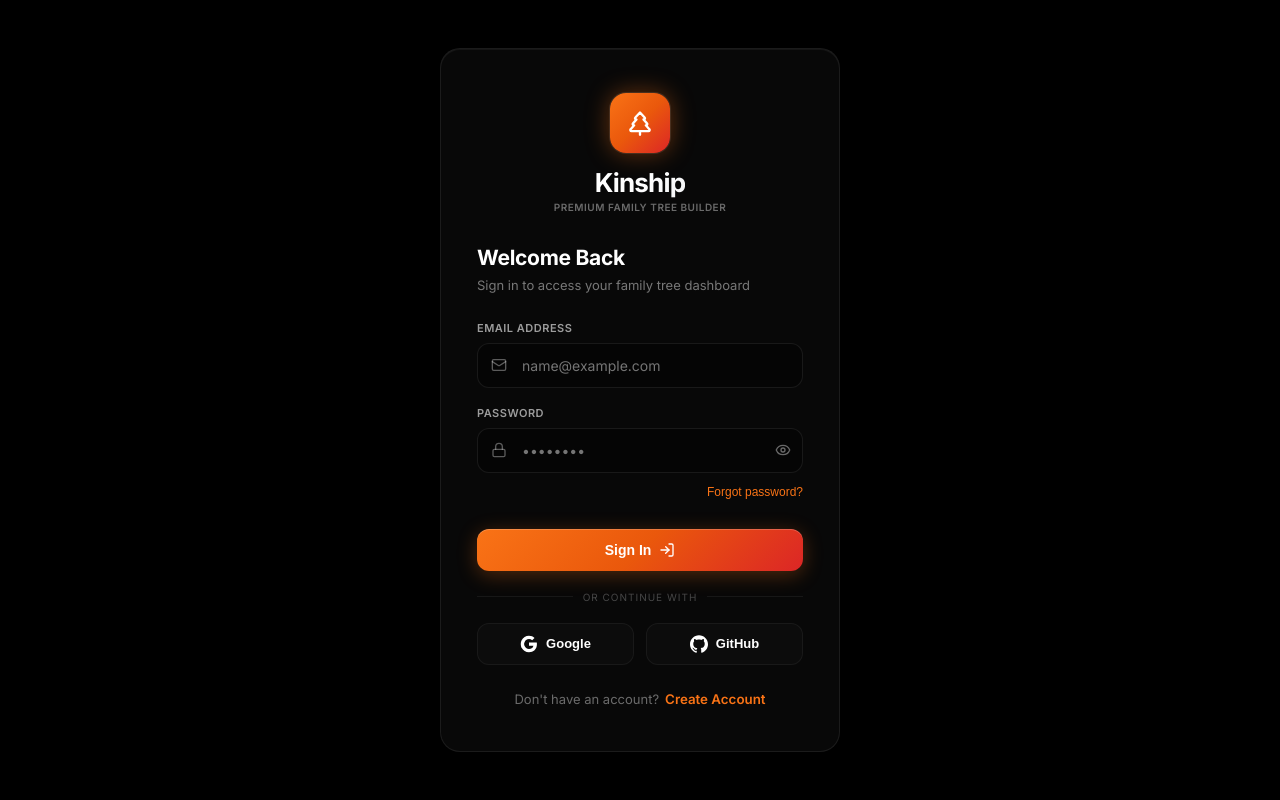
Test case: AuthScreen Component › Error Handling: displays API error message
Type "test@example.com" into the field with test id "auth-email-input".
click(640, 365); type("test@example.com")  # box left=477, top=343, right=803, bottom=388
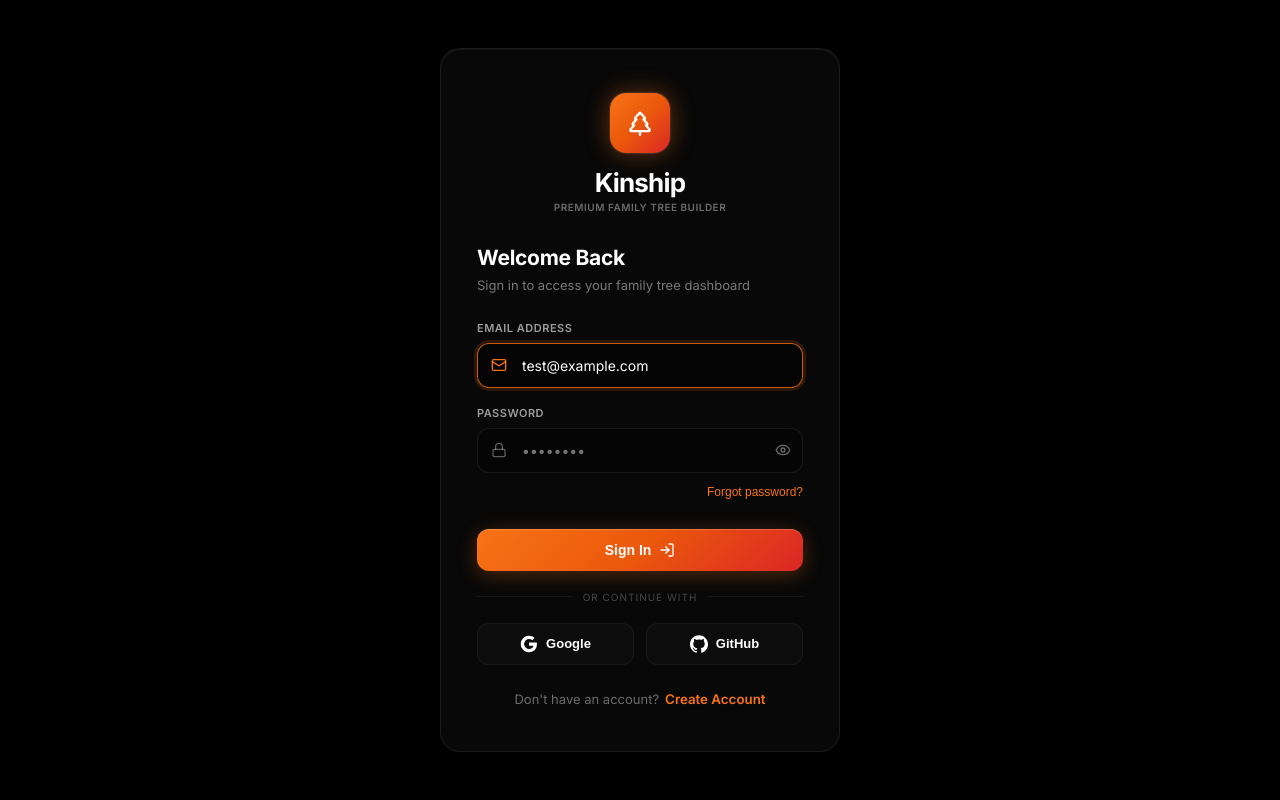
Type "wrongpass" into the password field with test id "auth-password-input".
click(640, 450); type("wrongpass")  # box left=477, top=428, right=803, bottom=473
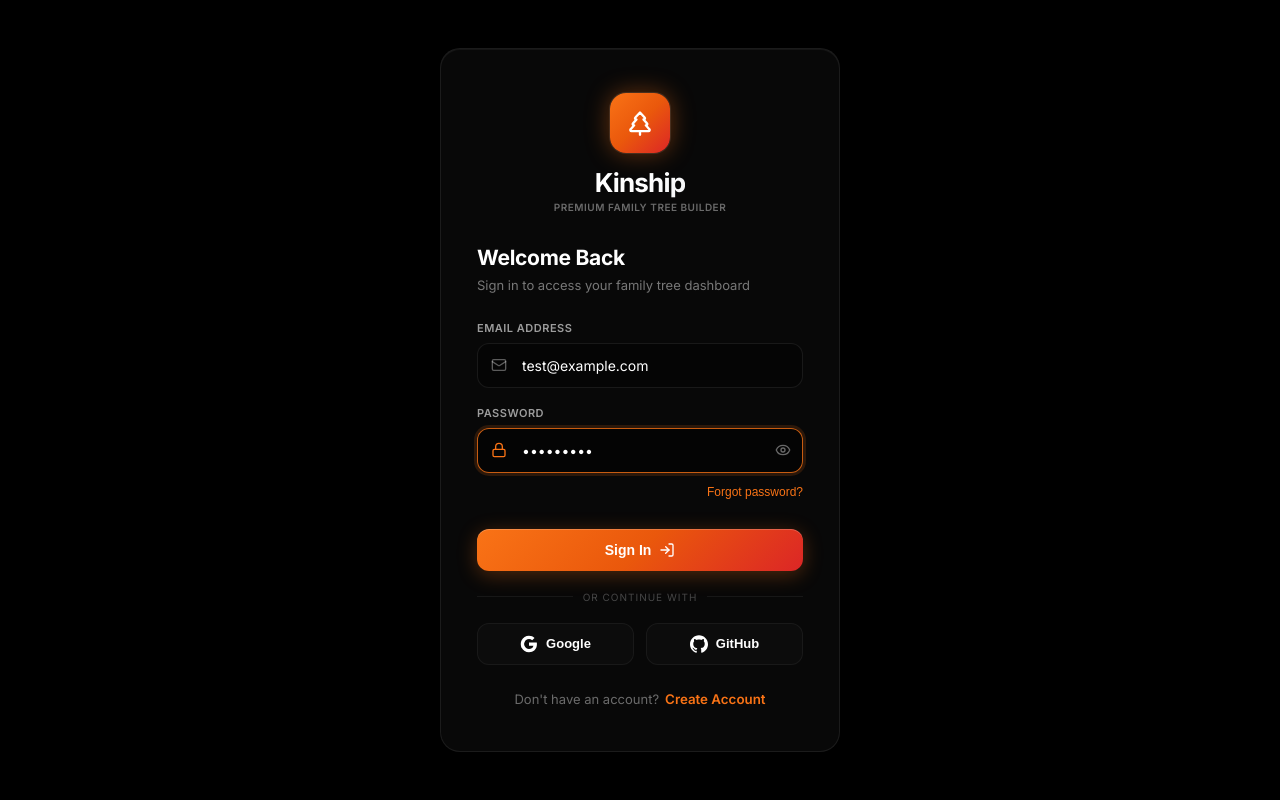
Click the button with test id "auth-submit-btn".
click(640, 550)  # box left=477, top=529, right=803, bottom=571
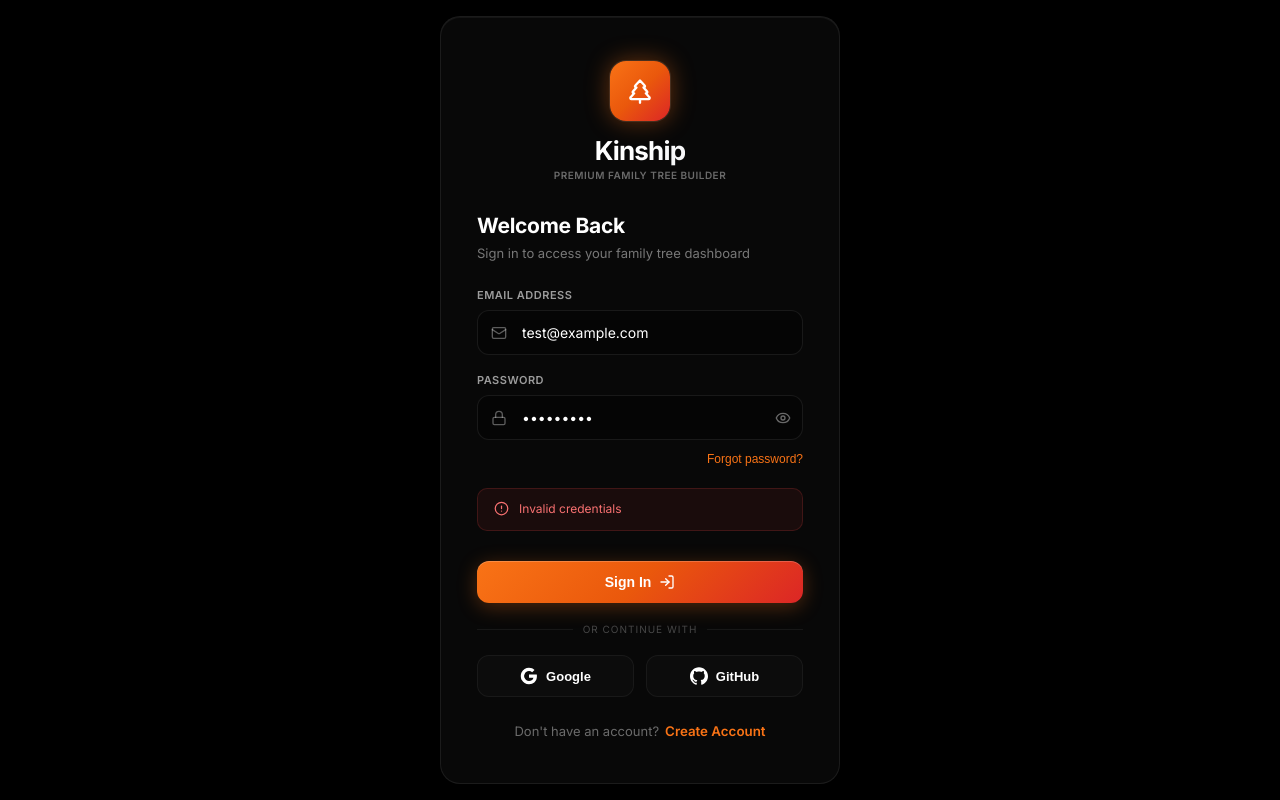
Result: the text "Invalid credentials" is shown at left=519, top=501, right=622, bottom=518
